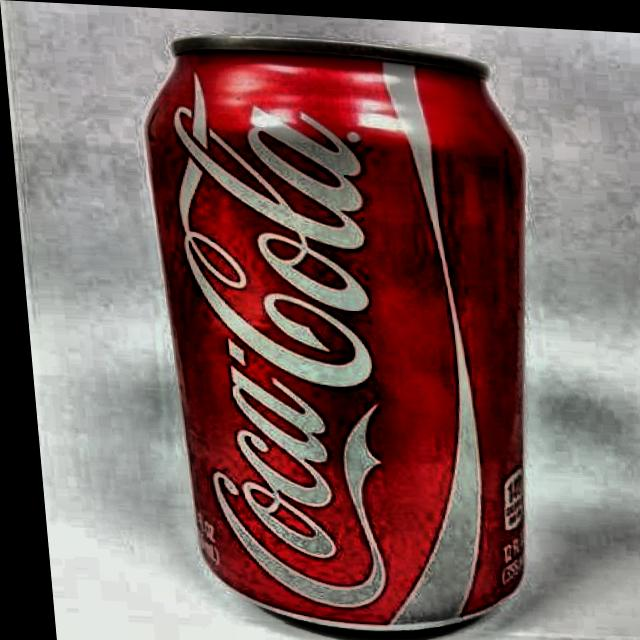Cans: (130, 5, 544, 640)
